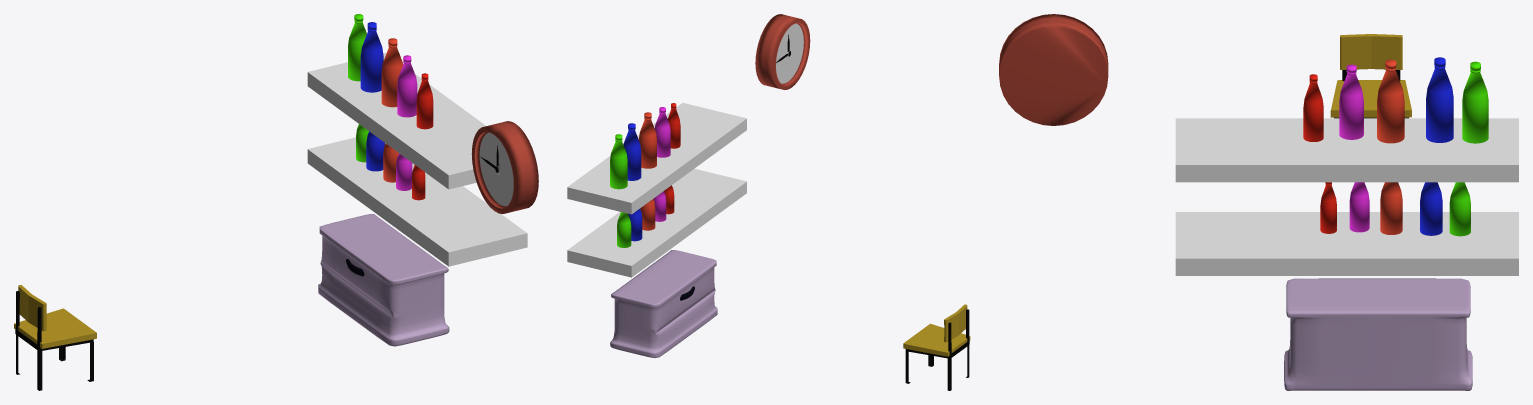
The model's file is Cuarto[1].fbx.
3 views of the same model, side by side, from view 1: azimuth 30°, elevation 25°; view 2: azimuth 150°, elevation 25°; view 3: azimuth 270°, elevation 25° (orthographic). The views are drawn at different scales.
Parts seen in each view (by area): view 1: Cube.007, Cube.004, Cube.003, Cube.009, ChairBase01, Cylinder.002, Cylinder.003, Cylinder.004, Cylinder.001, Cylinder.005, Cylinder.007, Cylinder.009 (+1 smaller); view 2: Cube.007, Cube.004, Cube.003, Cube.009, ChairBase01, Cylinder.001, Cylinder.003, Cylinder.002, Cylinder.004, Cylinder.006, Cylinder.005, Cylinder.008 (+1 smaller); view 3: Cube.007, Cube.004, Cube.003, Cube.009, ChairBase01, Cylinder.002, Cylinder.003, Cylinder.001, Cylinder.004, Cylinder.005, Cylinder.007, Cylinder.008 (+3 smaller).
Boxes of the visible parts, x1,y1,x2,y2 form: Cube.007: (318, 214, 449, 346); Cube.004: (307, 137, 527, 266); Cube.003: (307, 53, 486, 189); Cube.009: (471, 121, 538, 213); ChairBase01: (14, 285, 96, 390); Cylinder.002: (360, 22, 383, 92); Cylinder.003: (381, 38, 402, 107); Cylinder.004: (397, 55, 417, 117); Cylinder.001: (348, 14, 366, 81); Cylinder.005: (416, 73, 433, 129); Cylinder.007: (366, 131, 384, 171); Cylinder.009: (396, 153, 412, 190); Cube.007: (610, 250, 717, 357); Cube.004: (567, 168, 746, 277); Cube.003: (567, 103, 746, 214); Cube.009: (755, 14, 810, 89); ChairBase01: (903, 304, 970, 390); Cylinder.001: (610, 134, 627, 189); Cylinder.003: (638, 112, 656, 168); Cylinder.002: (623, 123, 641, 180); Cylinder.004: (654, 107, 670, 157); Cylinder.006: (617, 212, 631, 247); Cylinder.005: (667, 103, 680, 148); Cylinder.008: (640, 199, 655, 230); Cube.007: (1284, 278, 1472, 390); Cube.004: (1175, 212, 1518, 275); Cube.003: (1175, 118, 1518, 182); Cube.009: (999, 14, 1108, 125); ChairBase01: (1330, 34, 1411, 118); Cylinder.002: (1426, 57, 1453, 142); Cylinder.003: (1377, 59, 1404, 143); Cylinder.001: (1462, 61, 1488, 143); Cylinder.004: (1339, 64, 1363, 139); Cylinder.005: (1303, 74, 1323, 141); Cylinder.007: (1420, 182, 1442, 235); Cylinder.008: (1380, 182, 1402, 234).
Bounding box in the file's own units: 1507 × 983 × 1331.
